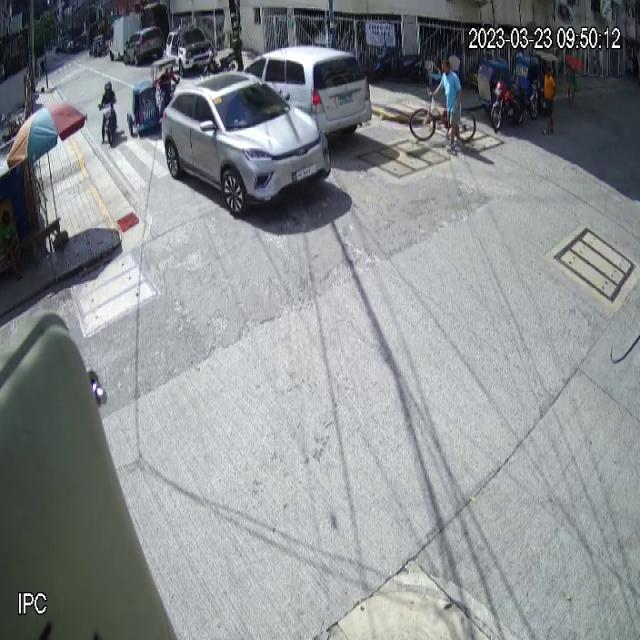Car: (162, 69, 330, 218), (248, 45, 372, 135)
Tricycle: (126, 56, 177, 136), (477, 57, 525, 132)
